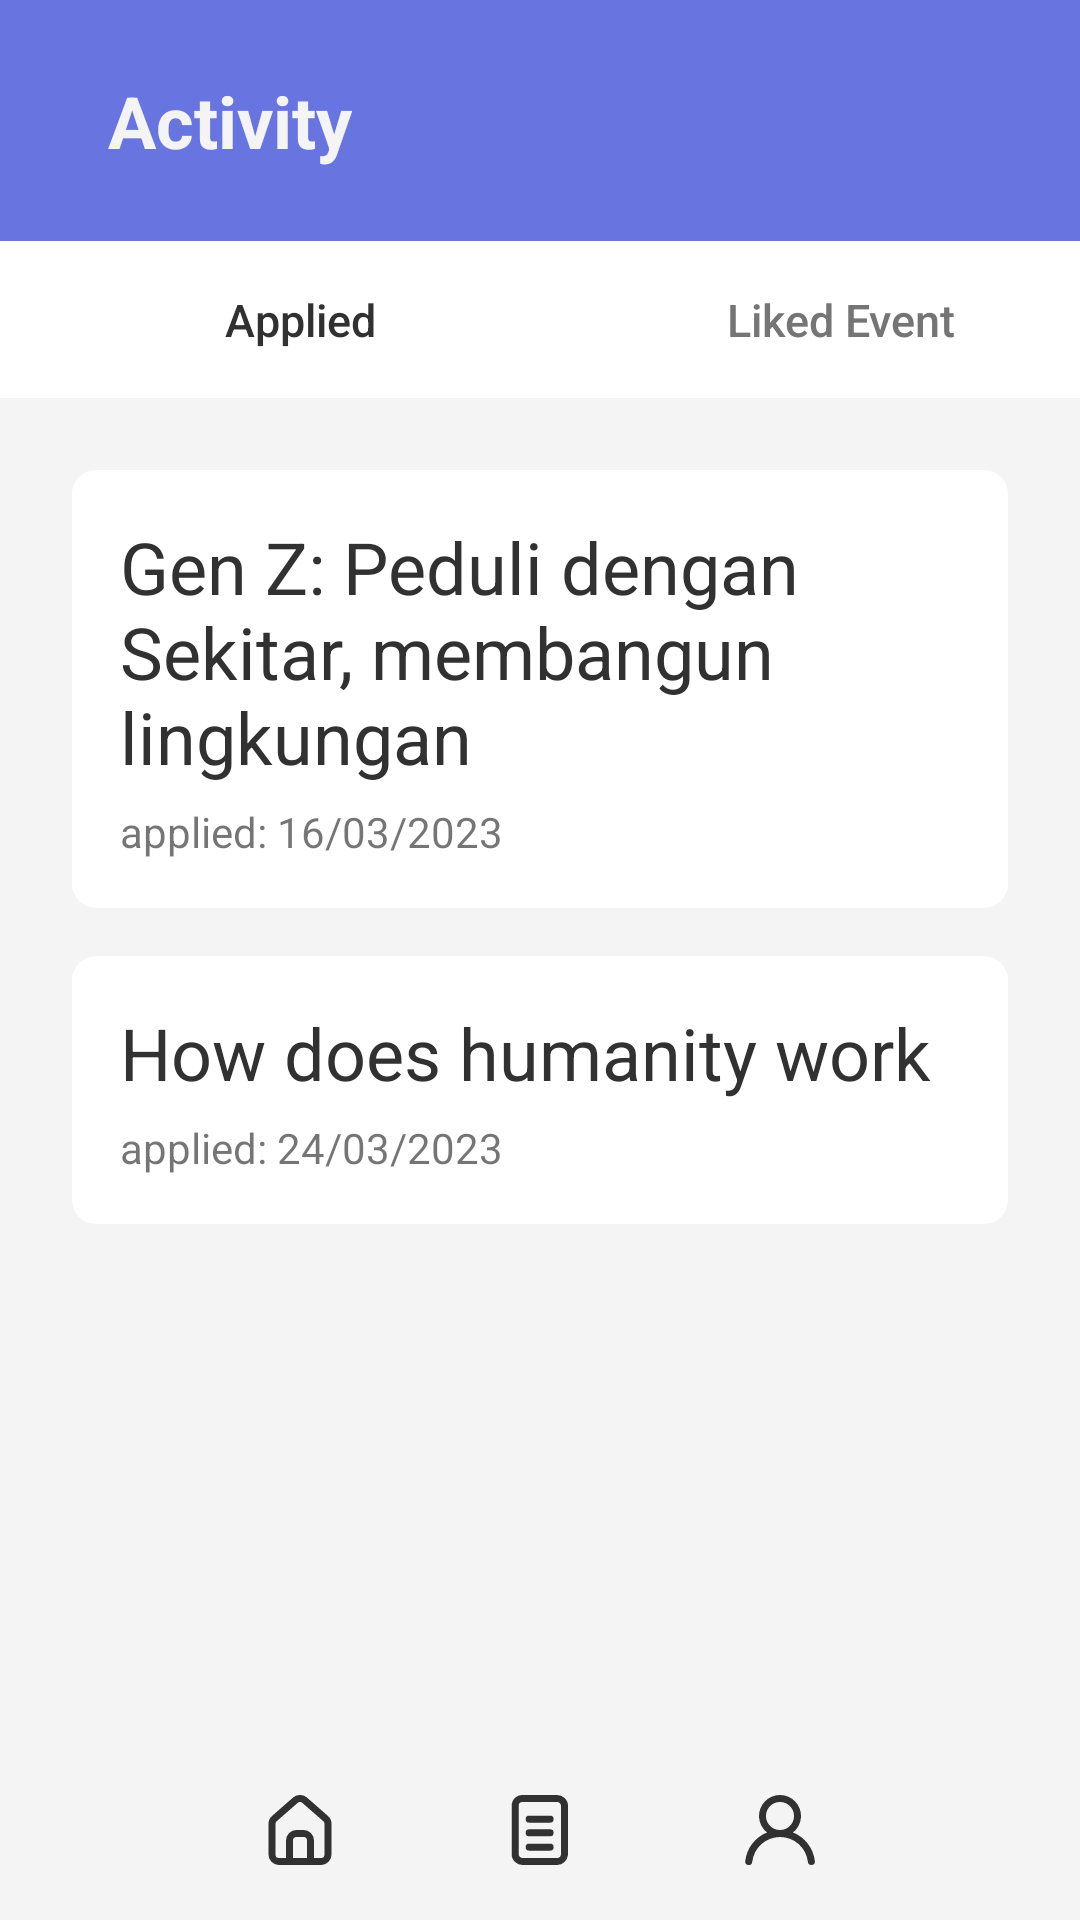

Icon bounding boxes for this 1080x1920 phone screenshot, format (x1, y1, x2, y2):
account: (745, 1795, 815, 1865)
home: (268, 1795, 332, 1865)
